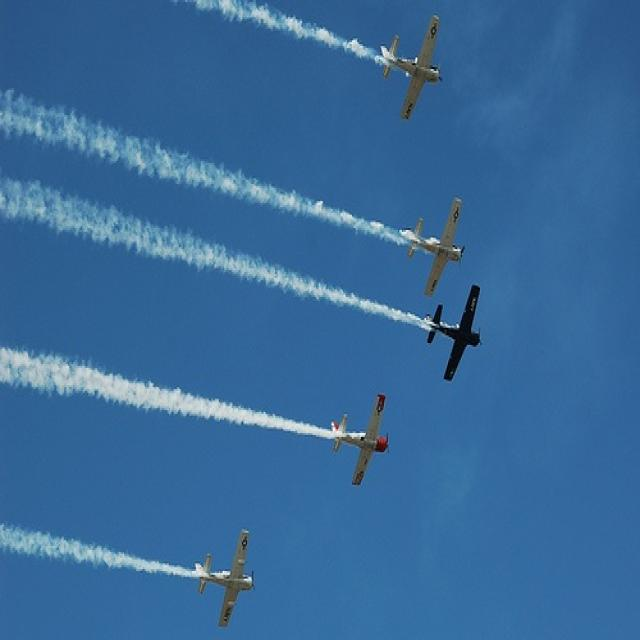aeroplane: (381, 17, 443, 119), (400, 199, 464, 297), (197, 529, 256, 628), (426, 284, 483, 381), (333, 396, 389, 484)
